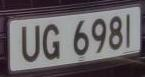1: (123, 11, 135, 51)
6: (71, 16, 91, 58)
8: (107, 12, 125, 53)
9: (89, 14, 109, 57)
G: (40, 19, 63, 64)
U: (19, 22, 43, 66)
